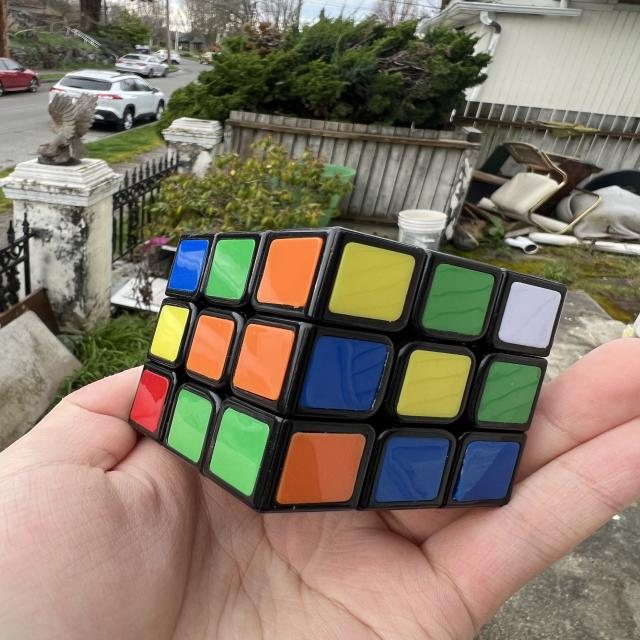blue: (298, 331, 389, 420), (372, 425, 451, 515), (452, 430, 521, 514), (167, 232, 210, 296)
center: (394, 342, 473, 429), (183, 311, 237, 382)
green: (203, 406, 273, 497), (420, 261, 496, 341), (476, 356, 542, 432), (161, 387, 216, 464), (203, 231, 257, 304)
orange: (275, 431, 366, 507), (255, 225, 324, 314), (230, 318, 297, 402)
red: (127, 369, 172, 434)
white: (496, 279, 563, 353)
yellow: (327, 239, 417, 329), (148, 302, 190, 363)
